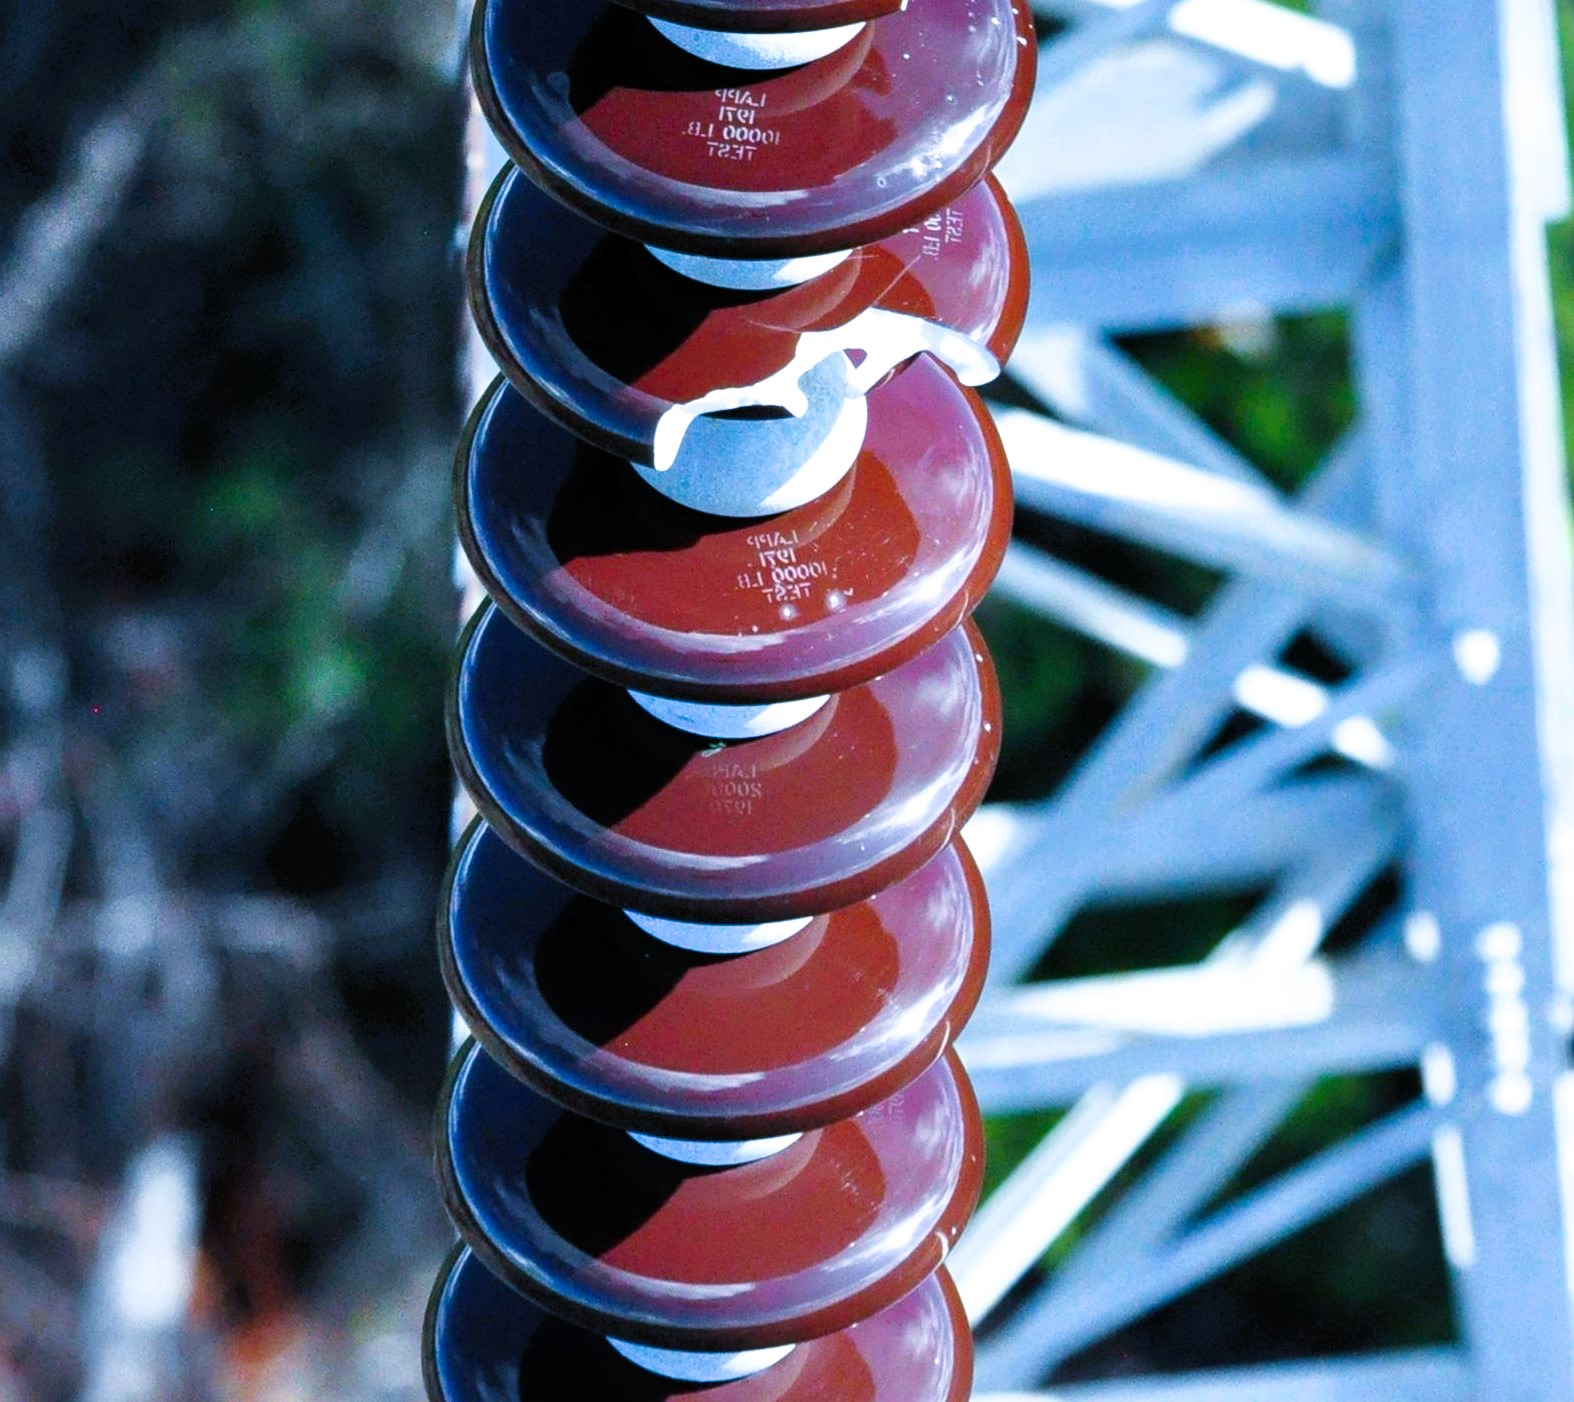insulator breakage: (433, 194, 1052, 484)
